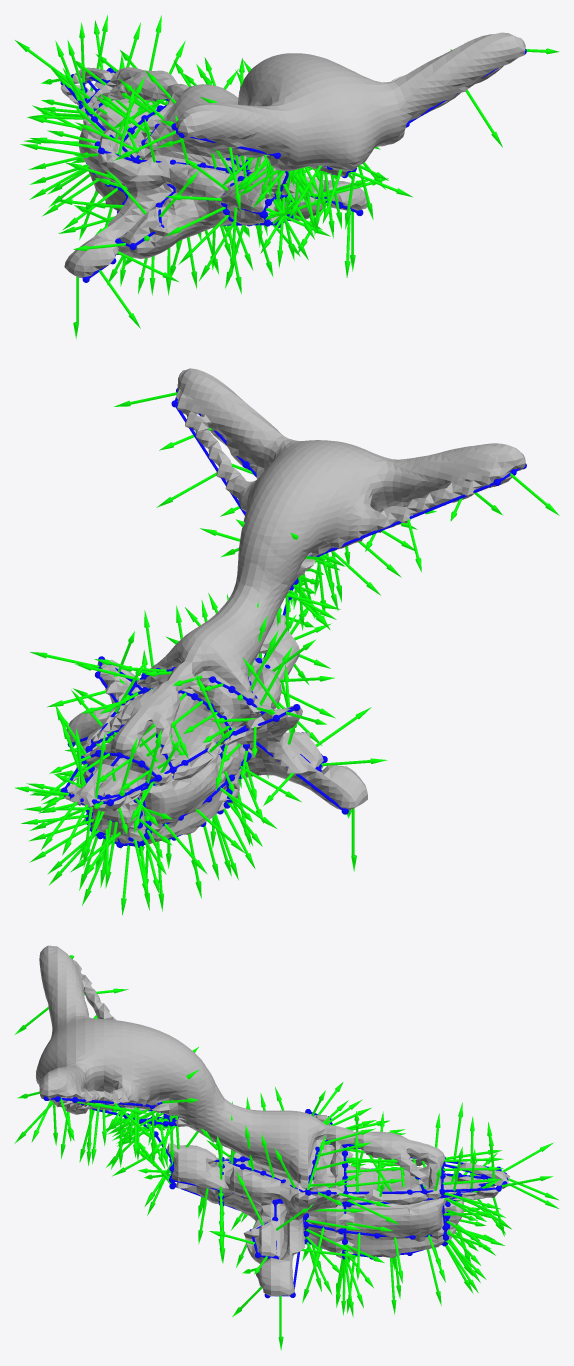
The model's file is ils_spacecraft_29.gltf.
3 renders of one model, top to bottom at view 1: azimuth 30°, elevation 25°; view 2: azimuth 150°, elevation 25°; view 3: azimuth 270°, elevation 25°, orthographic. The views are drawn at different scales.
Size of the model in its own units: 0.7095 by 0.5199 by 0.8822.
